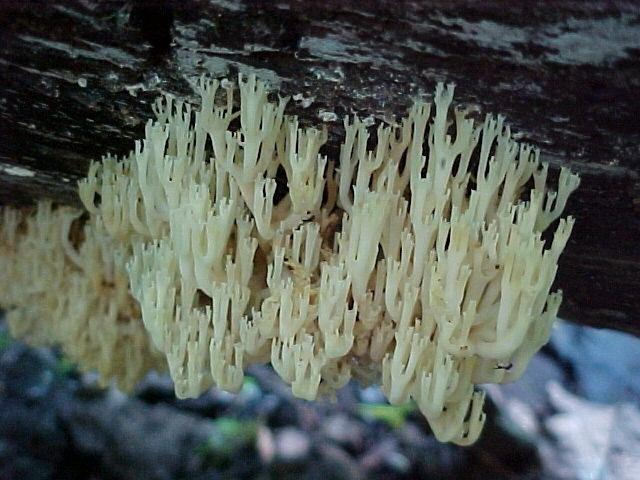edible_mushroom: (73, 69, 581, 446)
